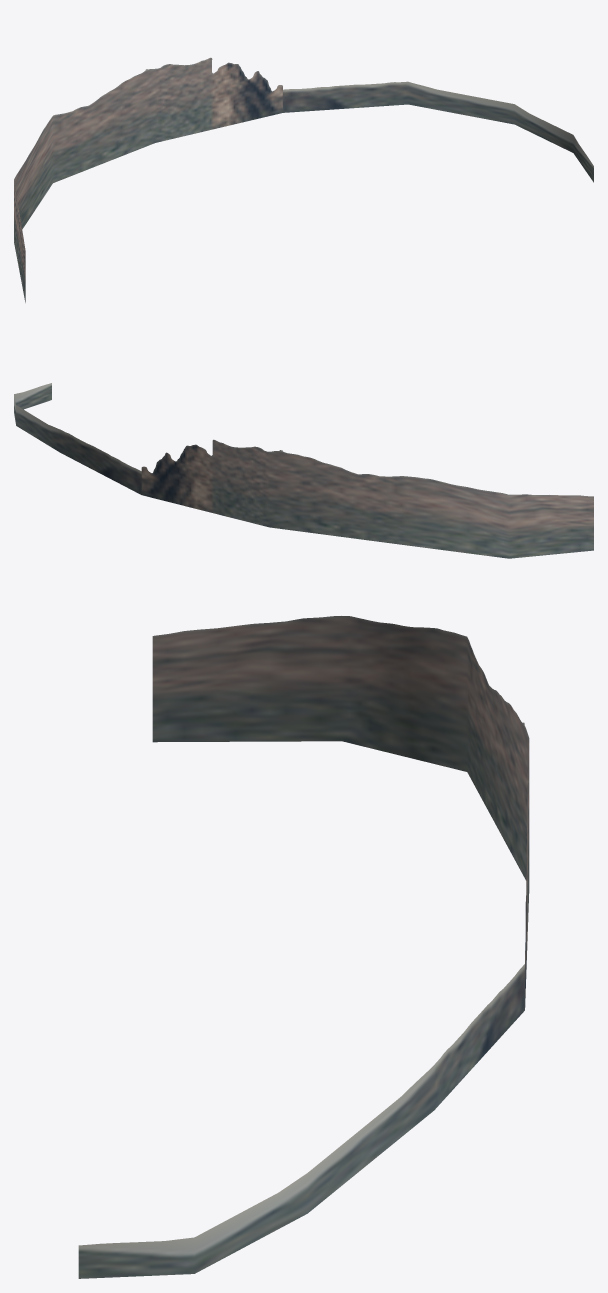
File: terrain_fake 1.FBX
3 renders of one model, top to bottom at view 1: azimuth 30°, elevation 25°; view 2: azimuth 150°, elevation 25°; view 3: azimuth 270°, elevation 25°, orthographic. The views are drawn at different scales.
Parts seen in each view (by area): view 1: Line001; view 2: Line001; view 3: Line001.
Part boxes in pixels (x1,y1,x2,y2): Line001: (14, 57, 593, 302); Line001: (14, 383, 593, 558); Line001: (78, 616, 529, 1278).
Size of the model in its own units: 343 by 74.7 by 120.
1 material, 1 textured.
